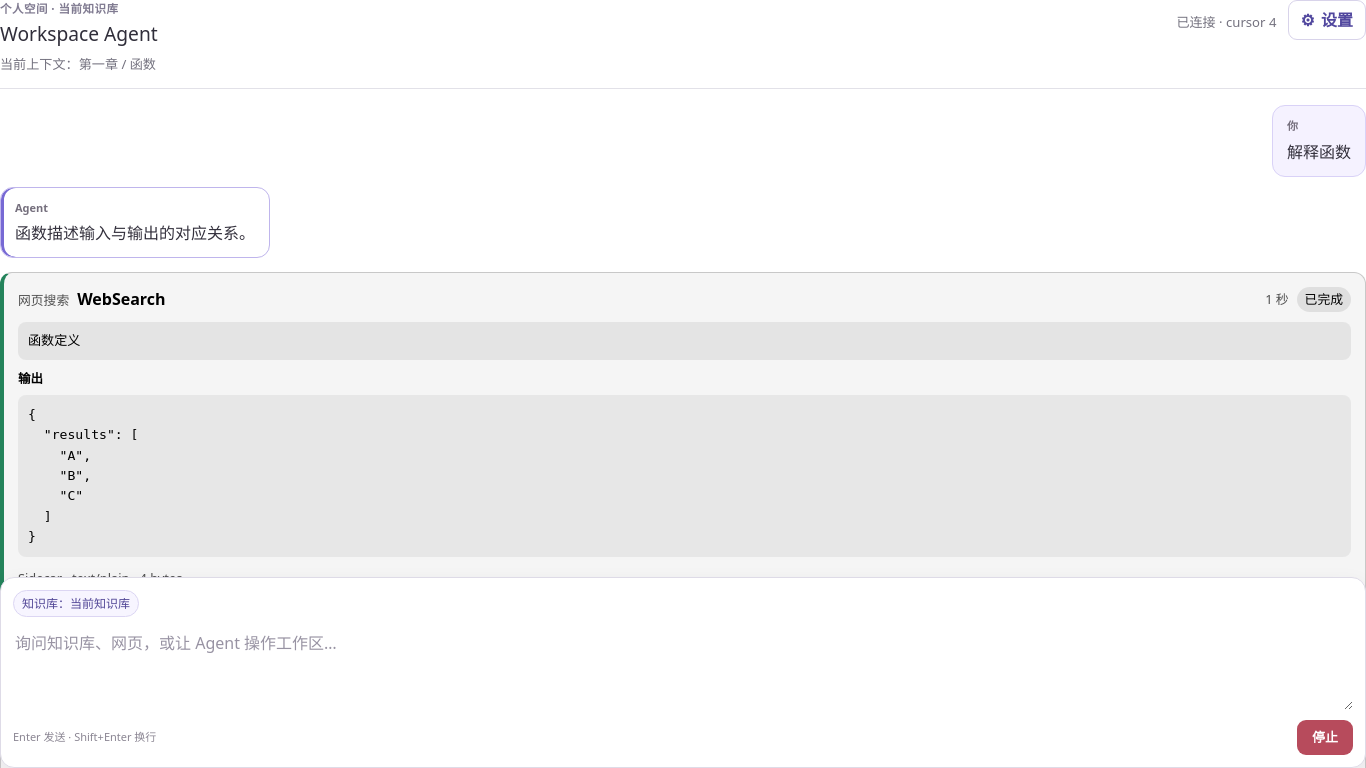
Test: AgentPanel › loads control-plane data, restores the persisted session, replays all events, and composes every Agent surface
Check: the text "函数描述输入与输出的对应关系。" is shown, box 15,221 -> 255,245
Check: the navigation bar "Agent sessions" is not shown
Click the button with aria-label "打开助教设置": (1327, 20) 1288,0 -> 1365,40
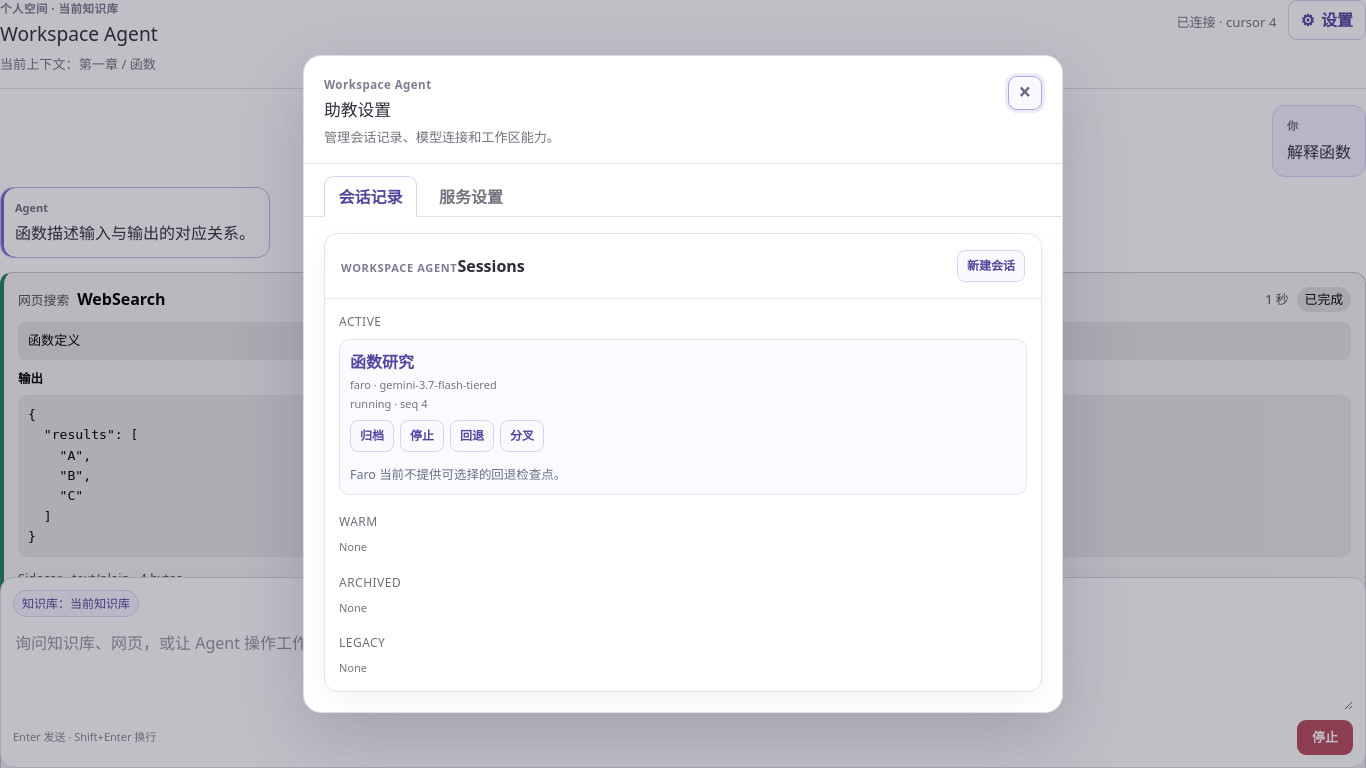
Check: the navigation bar named "Agent sessions" is shown, box 324,233 -> 1042,692
Click the tab "服务设置": (471, 197) 424,176 -> 518,217
(page scrolled)
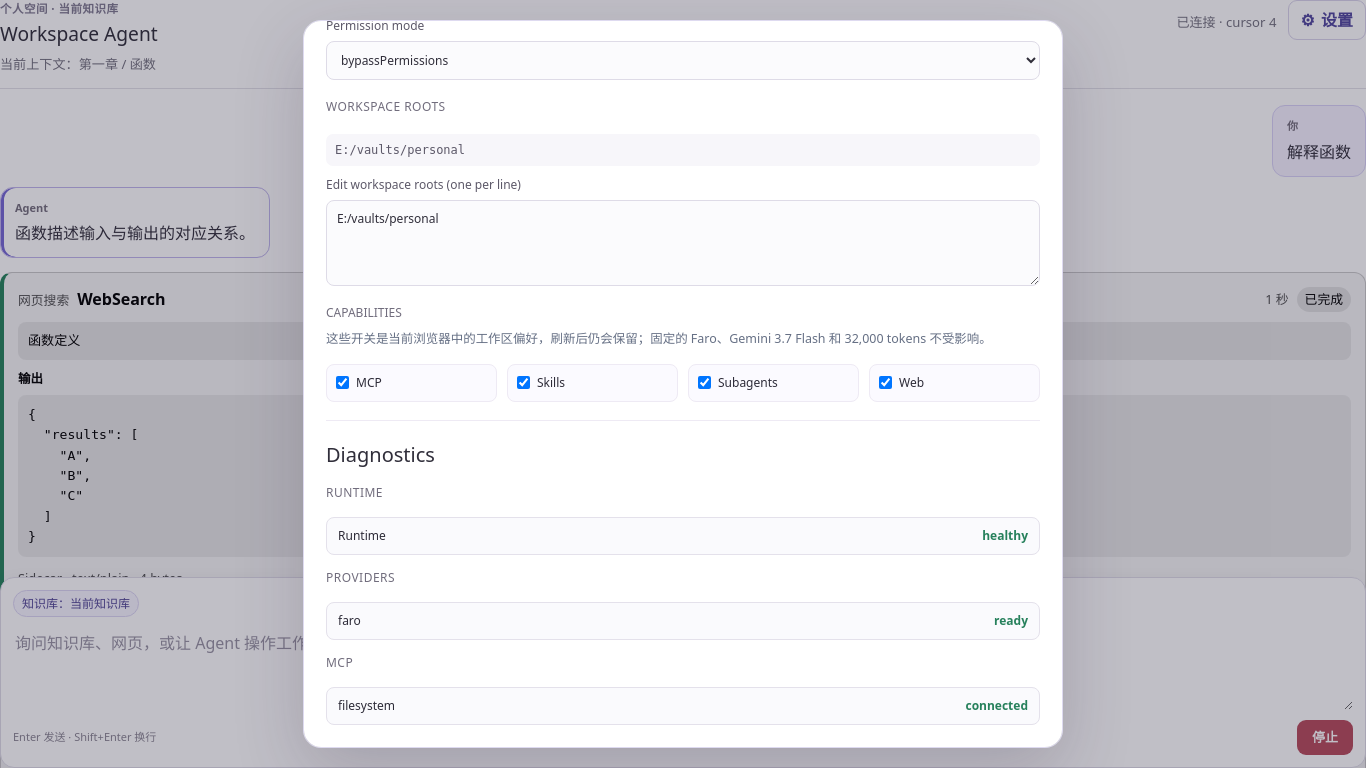
Check: the list item with test id "diagnostic-runtime" shows "healthy", box 982,527 -> 1028,544
